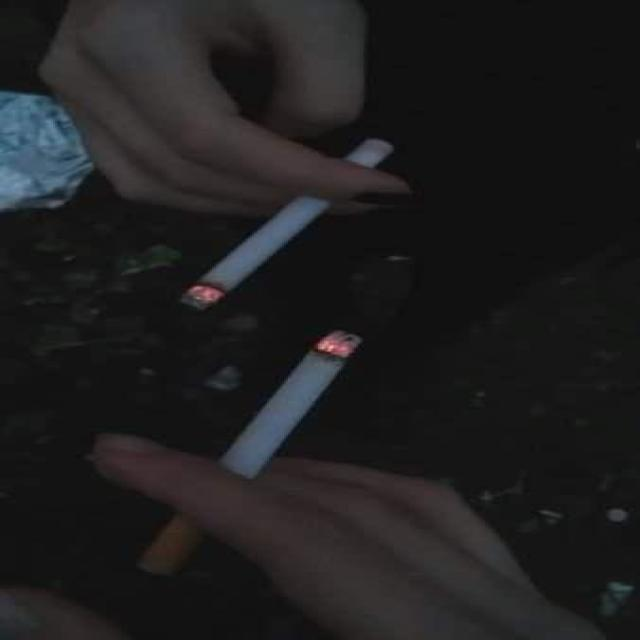rokok: (138, 328, 368, 568), (178, 144, 394, 316)
